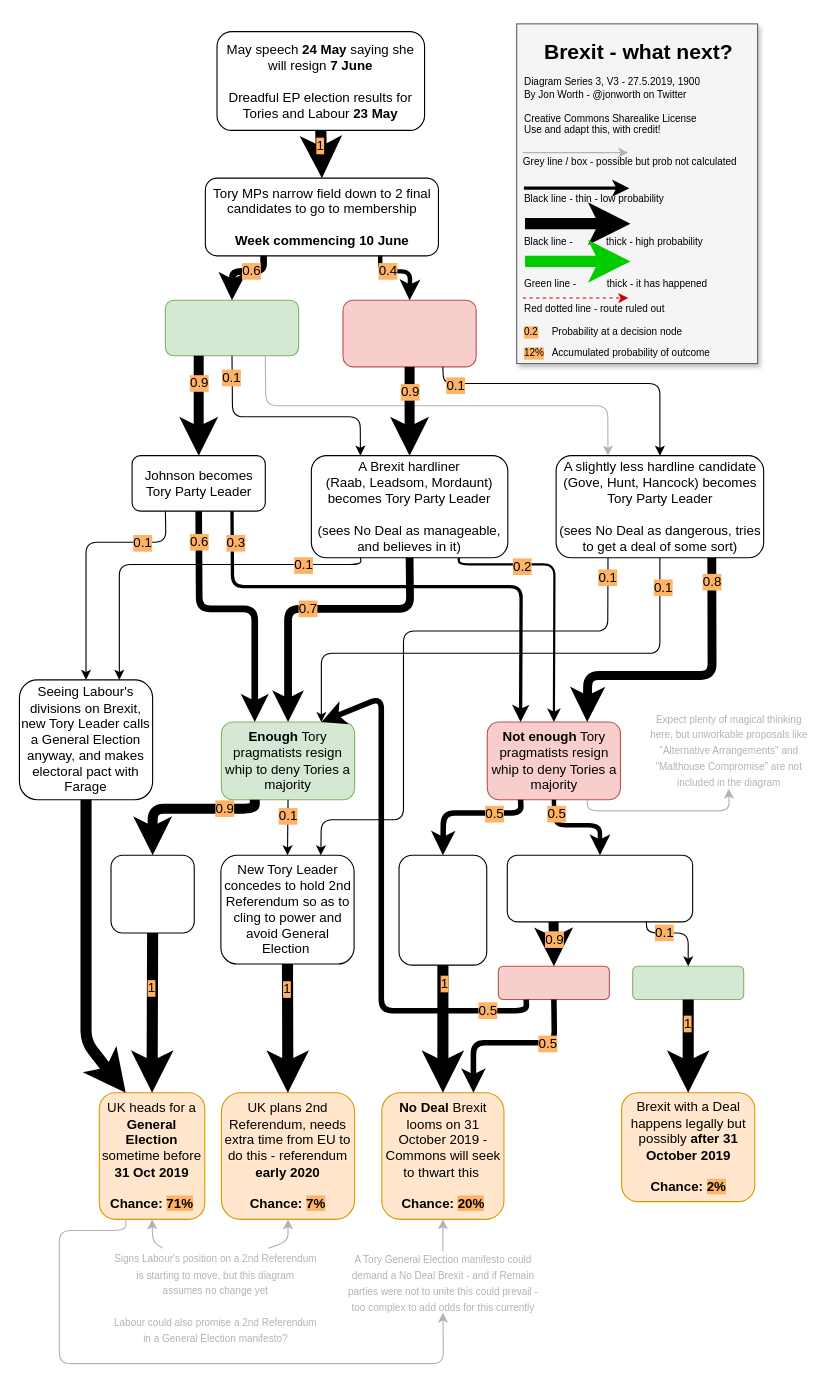
This 834x1392 diagram has some shape labels left out. Each missing label, with the centre of its shape:
"Boris Johnson doesn't make it to final 2" belongs at (409,333).
"Boris Johnson makes it to final 2" belongs at (231,327).
"New Tory leader - safe in office for now - goes to 🇪🇺to demand changes to WA" belongs at (599,888).
"New Tory leader sees no route other than No Deal Brexit" belongs at (442,909).
"No majority for new Tory Leader in Commons" belongs at (152,893).
"WA amended" belongs at (688,982).
"WA not amended" belongs at (553,982).
